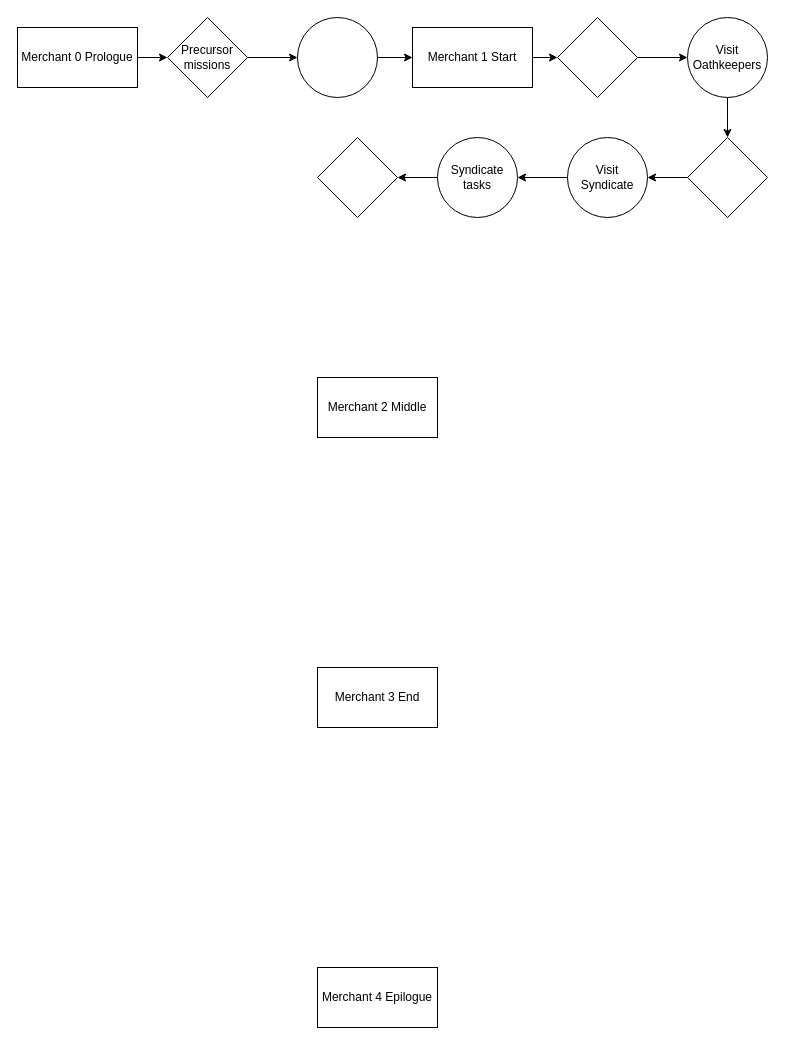
The diagram is 785 pixels wide and 1045 high, and some of its shapes have lost their labels. Each missing label, with the centre of its shape:
"Early warning fallout" belongs at pixel 357 177.
"Join Republic Mercantile, choose branch" belongs at pixel 337 57.
"Oathkeeper tasks" belongs at pixel 727 177.
"Reaction to war begins" belongs at pixel 597 57.
